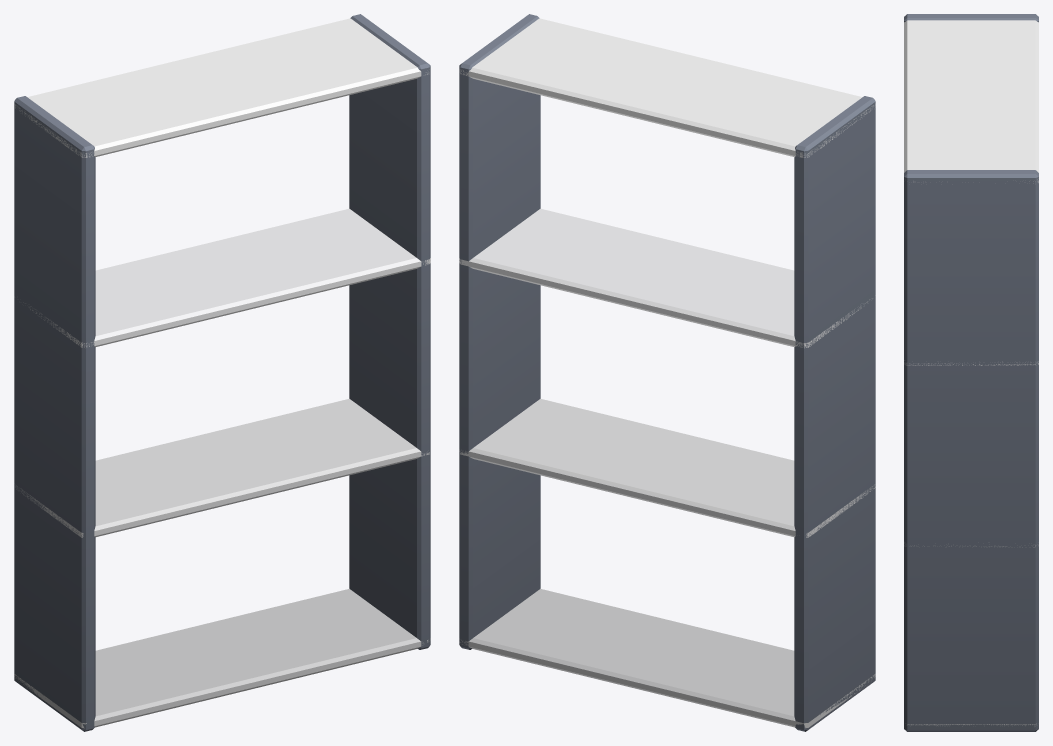
File: shelf_unit.glb
3 views of the same model, side by side, from view 1: azimuth 30°, elevation 25°; view 2: azimuth 150°, elevation 25°; view 3: azimuth 270°, elevation 25° (orthographic). The views are drawn at different scales.
Parts seen in each view (by area): view 1: shelf_unit-col; view 2: shelf_unit-col; view 3: shelf_unit-col.
Part boxes in pixels (<box>): shelf_unit-col: <box>14,14,430,731</box>; shelf_unit-col: <box>459,14,875,731</box>; shelf_unit-col: <box>904,14,1038,731</box>.
Bounding box in the file's own units: 1 × 1.6 × 0.35.
Materials: 1 (1 with a texture image).
